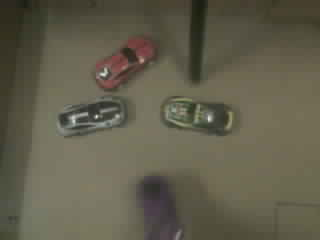Car: (95, 37, 153, 88), (138, 175, 183, 239), (161, 96, 234, 135), (57, 95, 126, 136)
